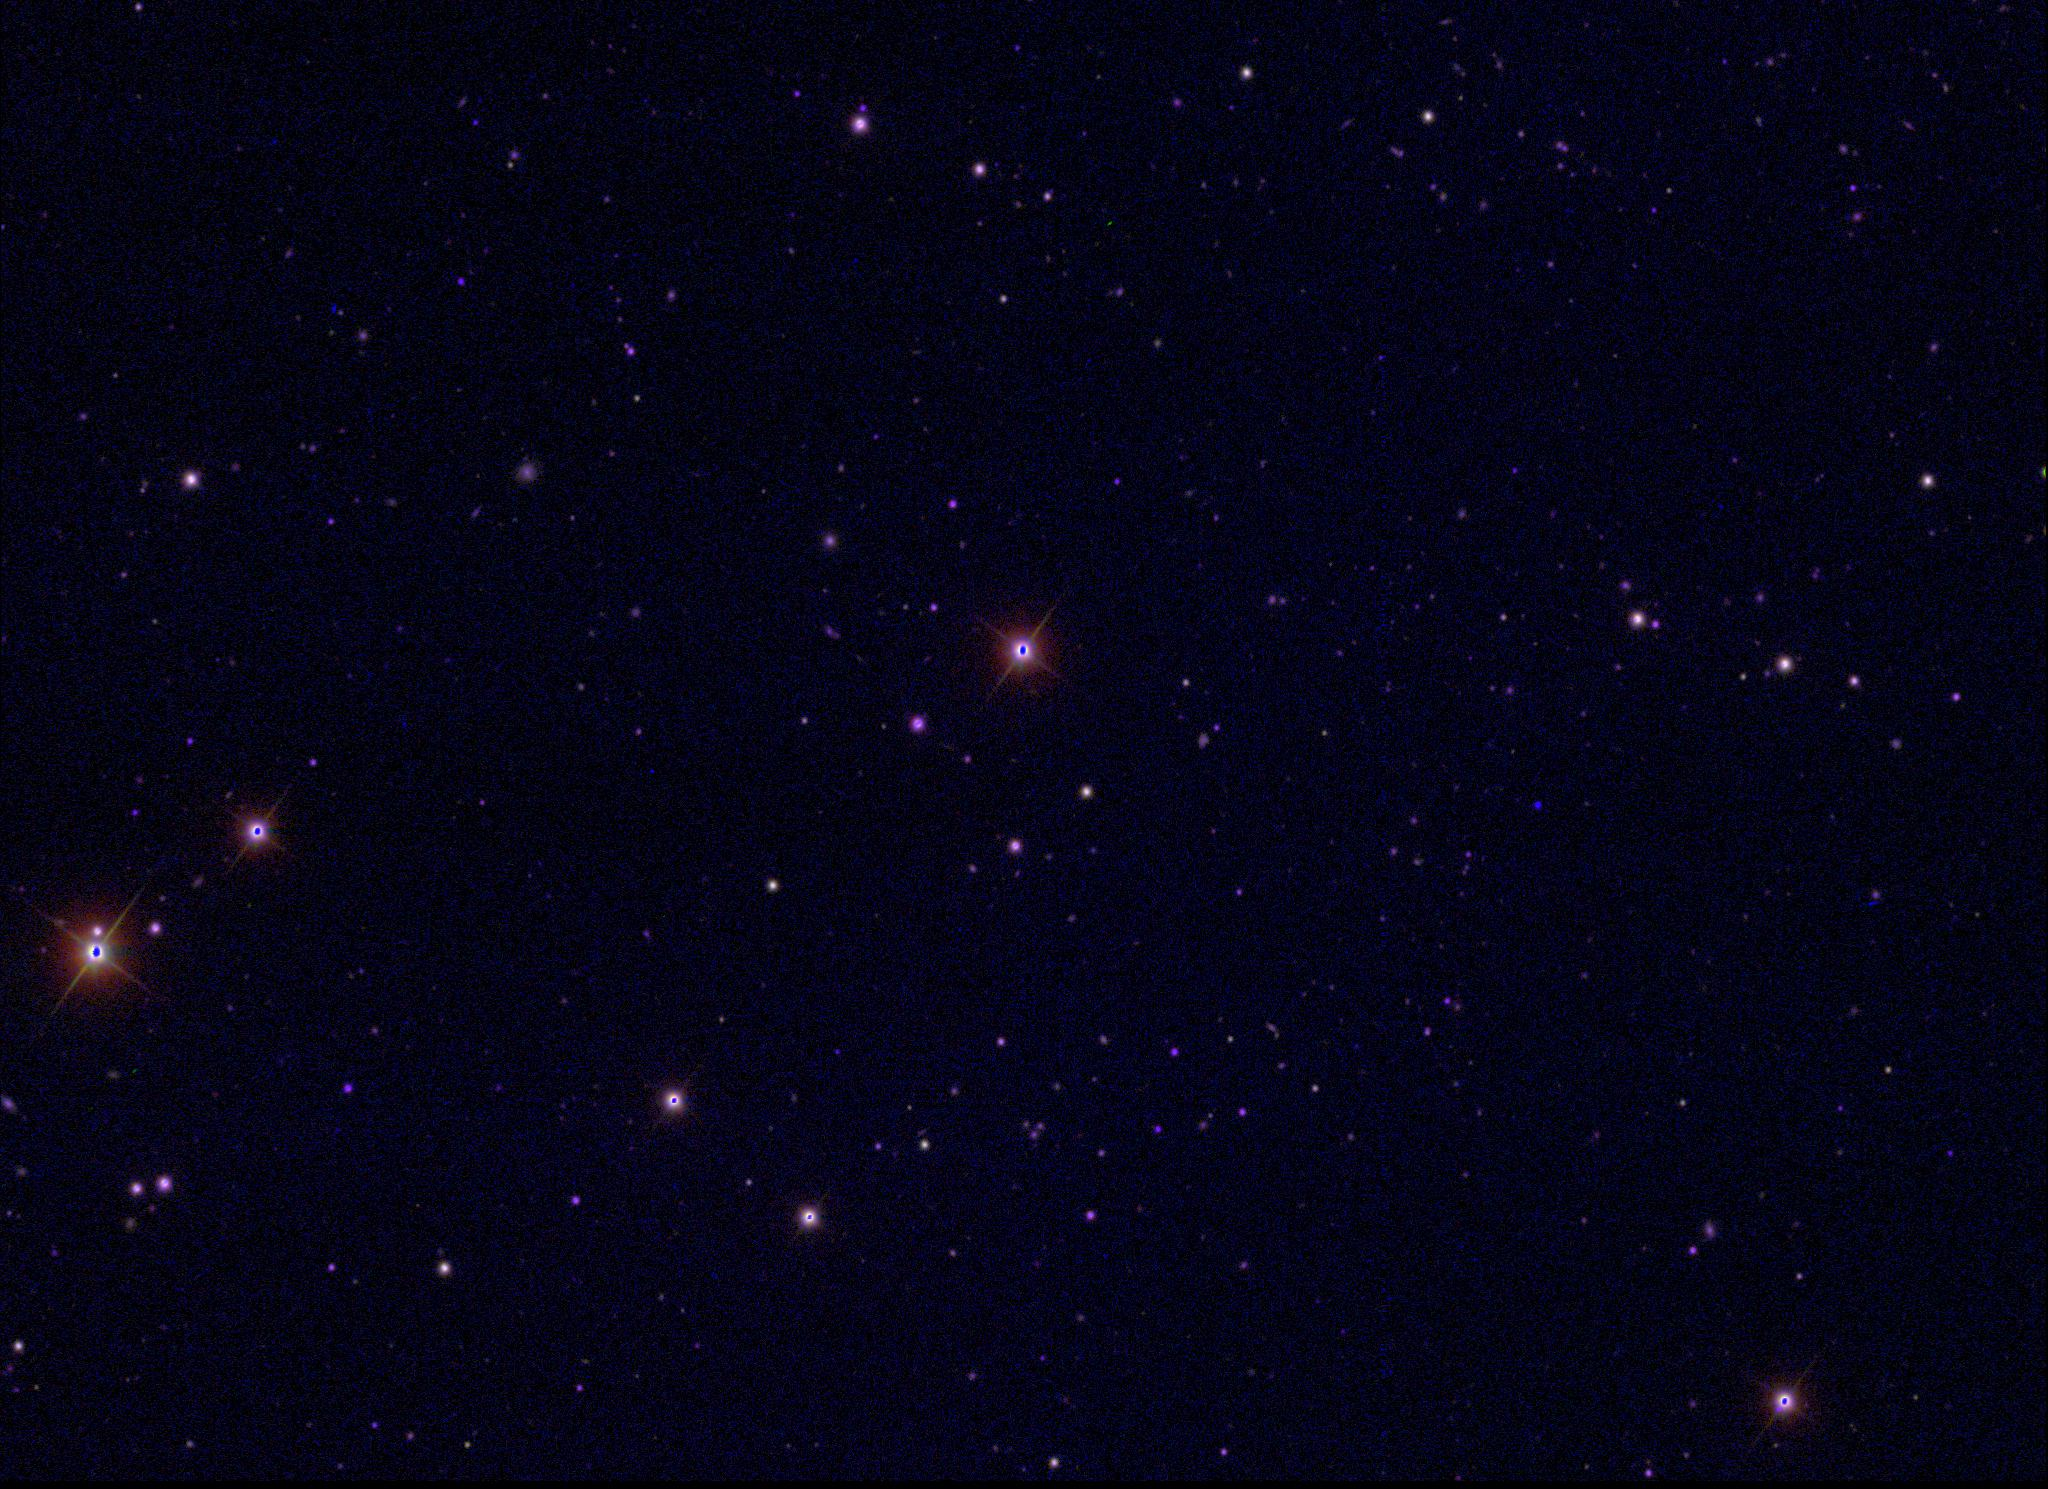L: (1530, 799, 1544, 813)
